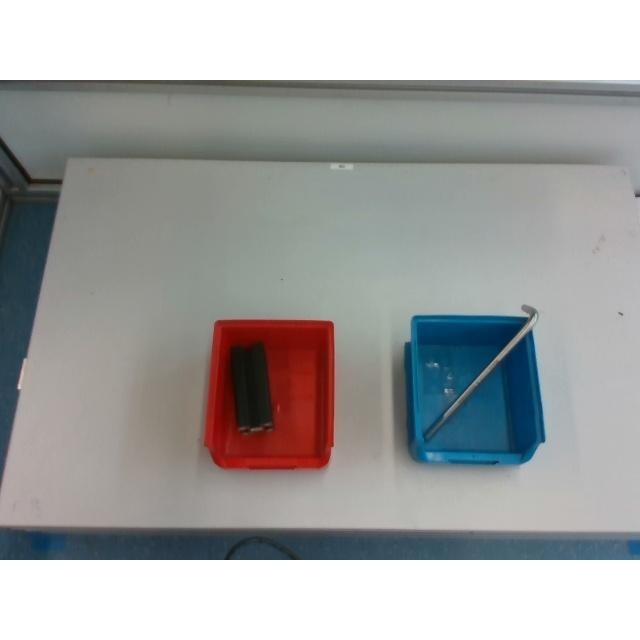AllenKey: (422, 304, 538, 440)
S40_40_B: (232, 343, 272, 431)
container_box_blue: (404, 316, 548, 466)
container_box_red: (204, 320, 332, 468)
